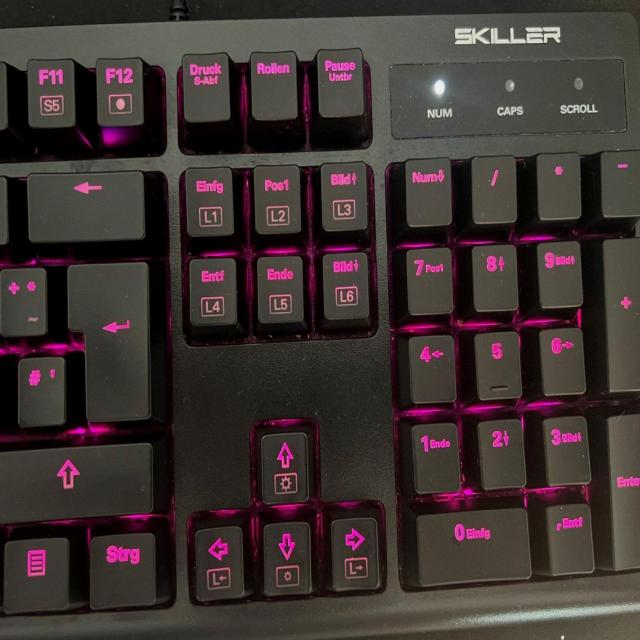accent: (0, 175, 16, 250)
del: (23, 166, 147, 243)
enter: (63, 253, 152, 425)
hash: (13, 352, 66, 427)
plus: (0, 262, 48, 337)
shift-right: (0, 438, 156, 521)
strg-right: (86, 527, 158, 608)
